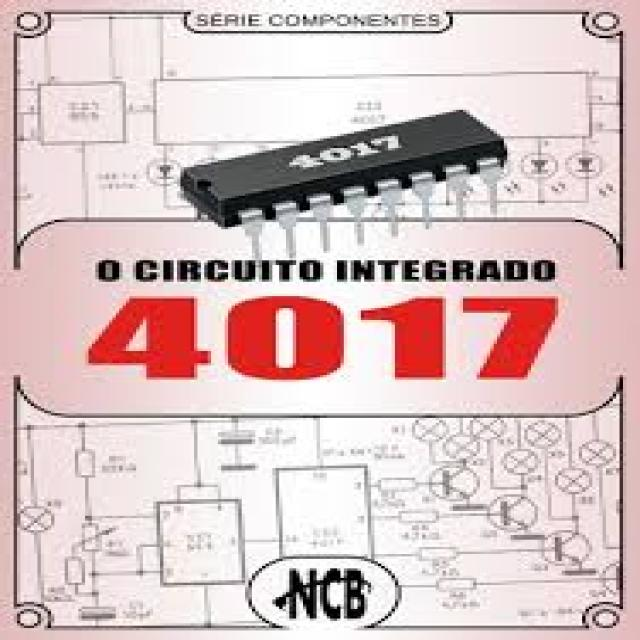IC: (173, 105, 516, 262)
